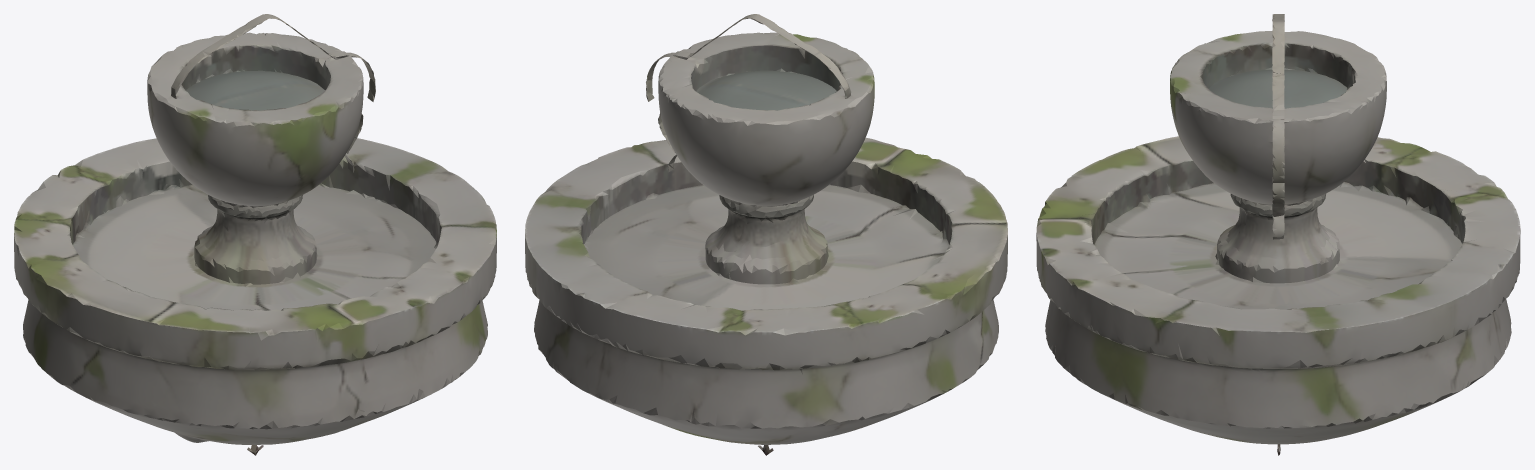
File: rodin_Lab_Fountain_raw.glb
The picture shows the model from 3 angles, left to right: view 1: azimuth 30°, elevation 25°; view 2: azimuth 150°, elevation 25°; view 3: azimuth 270°, elevation 25°; orthographic projection.
Visible parts, largest first — view 1: model; view 2: model; view 3: model.
Boxes of the visible parts, left/top/right/bottom form: model: left=14, top=14, right=496, bottom=455; model: left=525, top=14, right=1007, bottom=455; model: left=1036, top=14, right=1520, bottom=455.
Size of the model in its own units: 1.89 by 1.89 by 1.89.
Materials: 1 (1 with a texture image).
